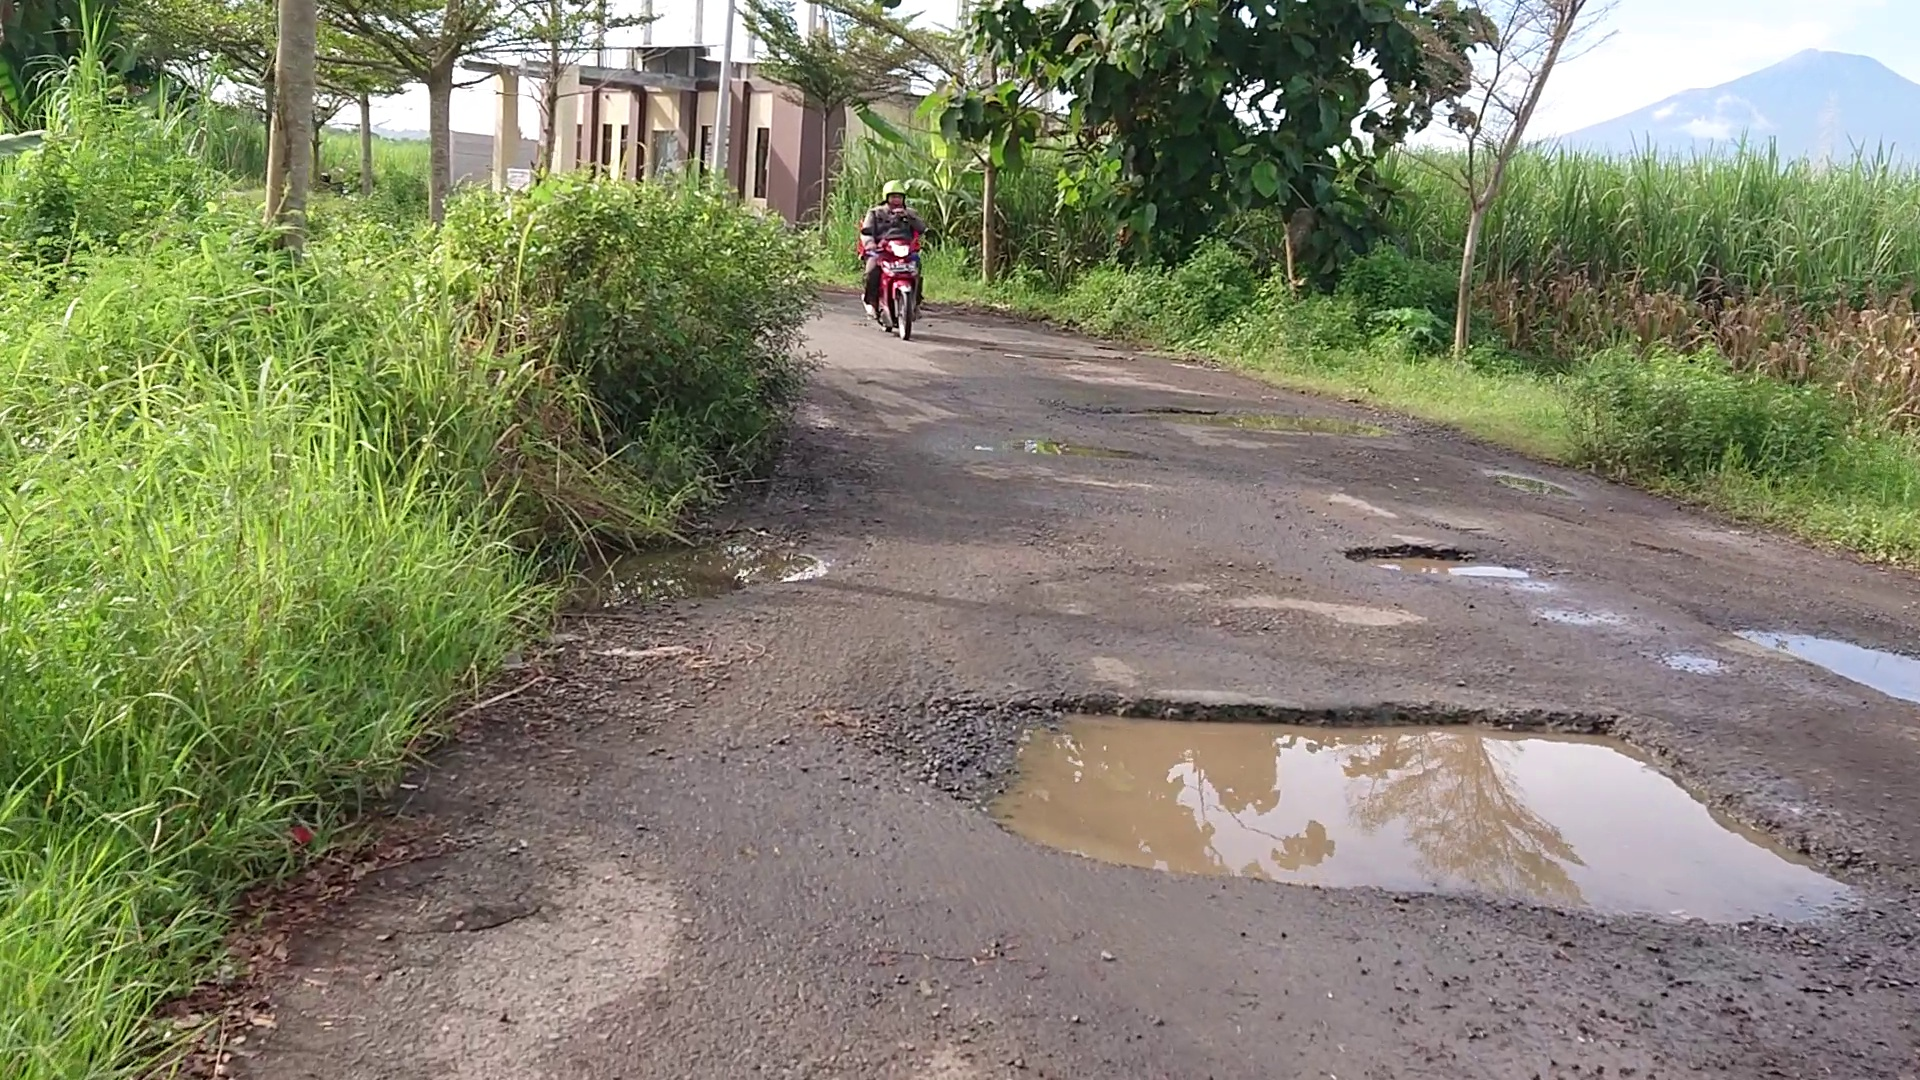Berlubang: (1004, 711, 1838, 923), (1742, 632, 1920, 695), (1124, 406, 1385, 443), (1348, 541, 1531, 582)
